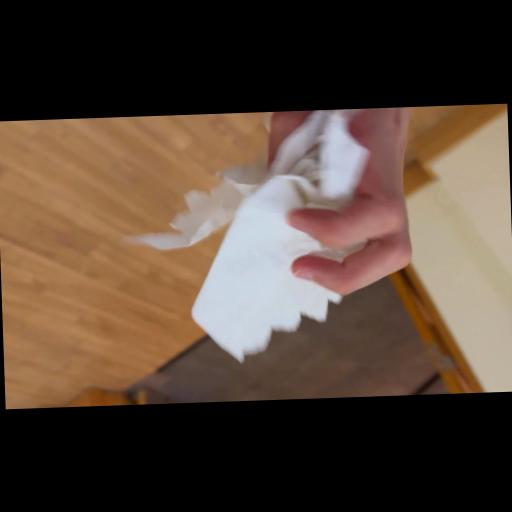napkin: (130, 108, 378, 368)
